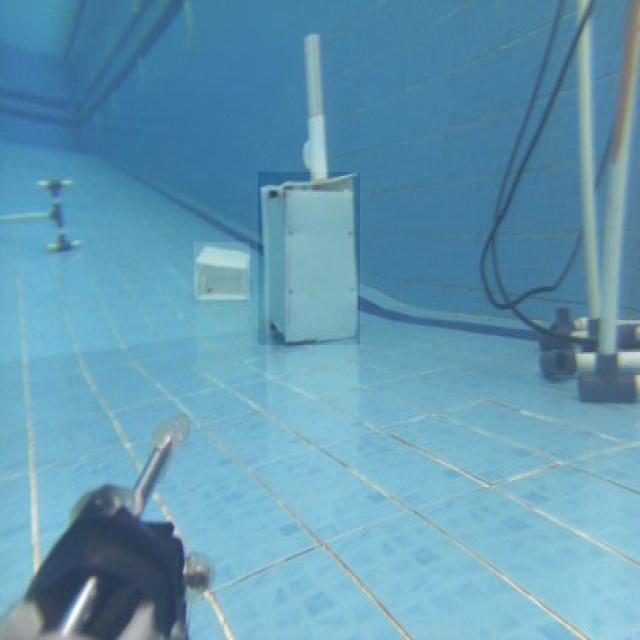Cube: (258, 172, 360, 345)
Cuboid: (194, 242, 250, 300)
